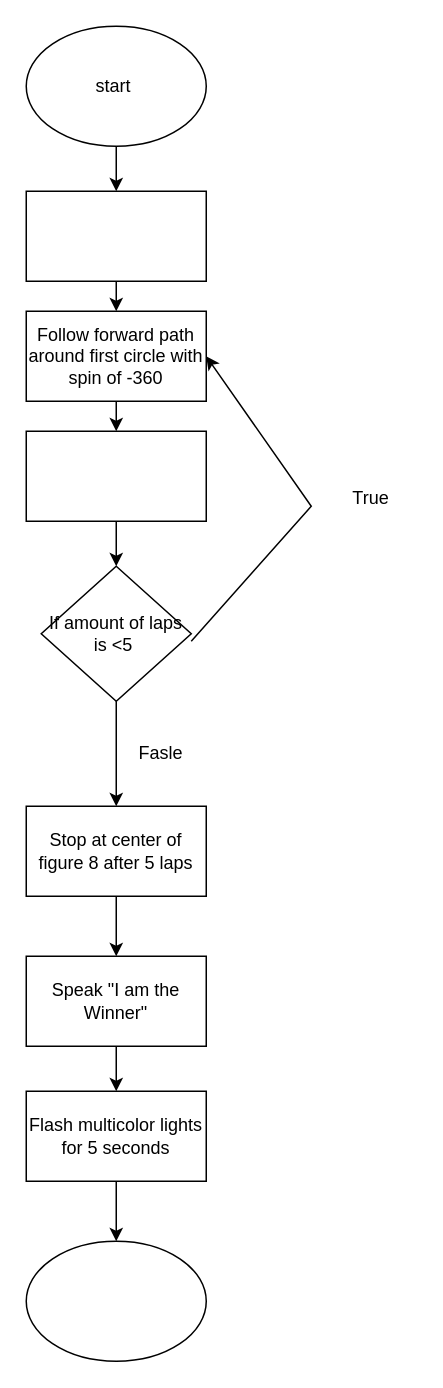
The diagram is 443 pixels wide and 1388 high, and some of its shapes have lost their labels. The shapes that lost their labels are listed below. From the top down, each one's box as (x1, y1, x2, y2) in pixels, then its label:
(25, 190, 206, 281): start on square in center of figure 8
(25, 430, 206, 521): Follow forward path around second circle with spin of 360
(25, 1240, 206, 1361): Stop
